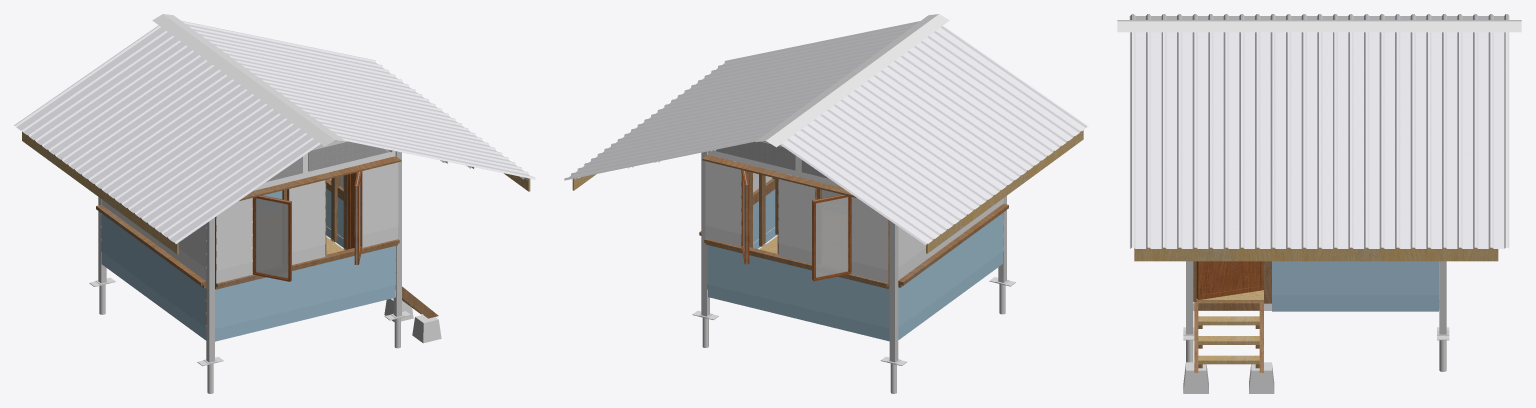
File: 1 Module - Blue (centered).glb
3 renders of one model, left to right at view 1: azimuth 30°, elevation 25°; view 2: azimuth 150°, elevation 25°; view 3: azimuth 270°, elevation 25°, orthographic. The views are drawn at different scales.
Visible parts, largest first — view 1: Geom3D_Component#136, Geom3D_Component#136.002, Geom3D_Component#136.005, Geom3D_Component#136.003, Geom3D_Component#136.001, Geom3D_Component#136.004, Geom3D_Component#129.002, Geom3D_Component#129.003, Geom3D_Component#129.004, Geom3D_Component#129, Geom3D_Component#129.001, Geom3D_Component#129.005 (+39 smaller); view 2: Geom3D_Component#136, Geom3D_Component#136.005, Geom3D_Component#136.002, Geom3D_Component#136.003, Geom3D_Component#136.001, Geom3D_Component#136.004, Geom3D_Component#129, Geom3D_Component#129.004, Geom3D_Component#129.003, Geom3D_Component#129.002, Geom3D_Component#129.001, Geom3D_Component#129.005 (+38 smaller); view 3: Geom3D_Component#129.002, Geom3D_Component#129, Geom3D_Component#129.004, Geom3D_Component#129.003, Geom3D_Component#129.001, Geom3D_Component#129.005, Geom3D_Purlin Cover 1#2.001, Geom3D.600, Geom3D_Component#78.003, Geom3D_Component#78.002, Geom3D.598, Geom3D_Component#98 (+12 smaller).
Part boxes in pixels (<box>): Geom3D_Component#136: <box>147,122,320,243</box>; Geom3D_Component#136.002: <box>67,65,240,185</box>; Geom3D_Component#136.005: <box>14,25,187,146</box>; Geom3D_Component#136.003: <box>42,45,214,165</box>; Geom3D_Component#136.001: <box>121,103,290,222</box>; Geom3D_Component#136.004: <box>96,86,264,204</box>; Geom3D_Component#129.002: <box>181,20,402,82</box>; Geom3D_Component#129.003: <box>287,98,508,159</box>; Geom3D_Component#129.004: <box>235,59,455,121</box>; Geom3D_Component#129: <box>319,121,535,179</box>; Geom3D_Component#129.001: <box>213,44,429,101</box>; Geom3D_Component#129.005: <box>266,82,482,140</box>; Geom3D_Component#136: <box>914,25,1088,147</box>; Geom3D_Component#136.005: <box>780,123,954,245</box>; Geom3D_Component#136.002: <box>836,84,1007,204</box>; Geom3D_Component#136.003: <box>809,104,980,223</box>; Geom3D_Component#136.001: <box>887,47,1058,167</box>; Geom3D_Component#136.004: <box>863,67,1034,184</box>; Geom3D_Component#129: <box>697,21,919,82</box>; Geom3D_Component#129.004: <box>617,79,839,141</box>; Geom3D_Component#129.003: <box>671,40,893,102</box>; Geom3D_Component#129.002: <box>564,118,786,180</box>; Geom3D_Component#129.001: <box>591,102,808,160</box>; Geom3D_Component#129.005: <box>644,63,861,121</box>; Geom3D_Component#129.002: <box>1441,32,1509,248</box>; Geom3D_Component#129: <box>1129,32,1197,248</box>; Geom3D_Component#129.004: <box>1316,32,1384,248</box>; Geom3D_Component#129.003: <box>1192,32,1260,248</box>; Geom3D_Component#129.001: <box>1378,32,1446,248</box>; Geom3D_Component#129.005: <box>1254,32,1322,248</box>; Geom3D_Purlin Cover 1#2.001: <box>1134,247,1498,261</box>; Geom3D.600: <box>1272,295,1438,311</box>; Geom3D_Component#78.003: <box>1117,20,1323,32</box>; Geom3D_Component#78.002: <box>1323,20,1521,32</box>; Geom3D.598: <box>1272,267,1438,281</box>; Geom3D_Component#98: <box>1196,261,1263,300</box>.
Size of the model in its own units: 5.97 by 3.99 by 4.95.
16 materials, 9 textured.
